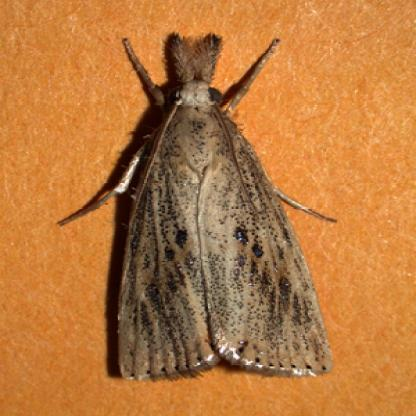stem-borer: (98, 23, 336, 388)
